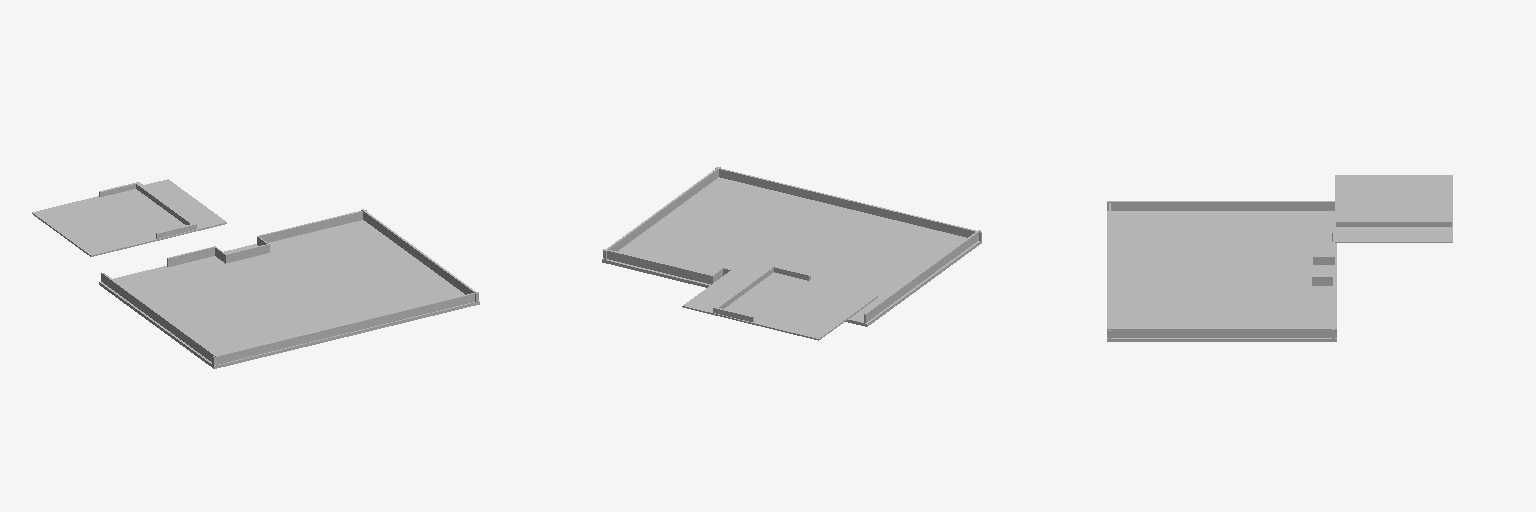
File: podloga.obj
3 renders of one model, left to right at view 1: azimuth 30°, elevation 25°; view 2: azimuth 150°, elevation 25°; view 3: azimuth 270°, elevation 25°, orthographic.
Parts seen in each view (by area): view 1: Kostka.005_Kostka.001, Kostka.005_Kostka.002, Kostka.004_Kostka.004; view 2: Kostka.005_Kostka.001, Kostka.005_Kostka.002, Kostka.004_Kostka.004; view 3: Kostka.005_Kostka.001, Kostka.005_Kostka.002, Kostka.004_Kostka.004.
Boxes of the visible parts, <box> form: Kostka.005_Kostka.001: <box>99,220,479,368</box>; Kostka.005_Kostka.002: <box>32,179,226,256</box>; Kostka.004_Kostka.004: <box>101,209,478,365</box>; Kostka.005_Kostka.001: <box>602,177,981,326</box>; Kostka.005_Kostka.002: <box>682,263,877,340</box>; Kostka.004_Kostka.004: <box>603,167,981,322</box>; Kostka.005_Kostka.001: <box>1107,211,1336,341</box>; Kostka.005_Kostka.002: <box>1335,175,1452,242</box>; Kostka.004_Kostka.004: <box>1107,201,1336,338</box>.
Bounding box in the file's own units: 4.14 × 0.5425 × 4.52.